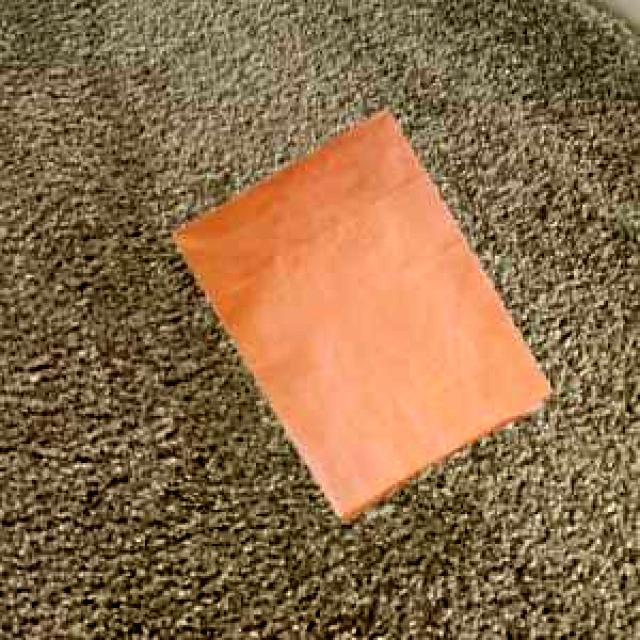Paper_Bag: (170, 108, 550, 516)
